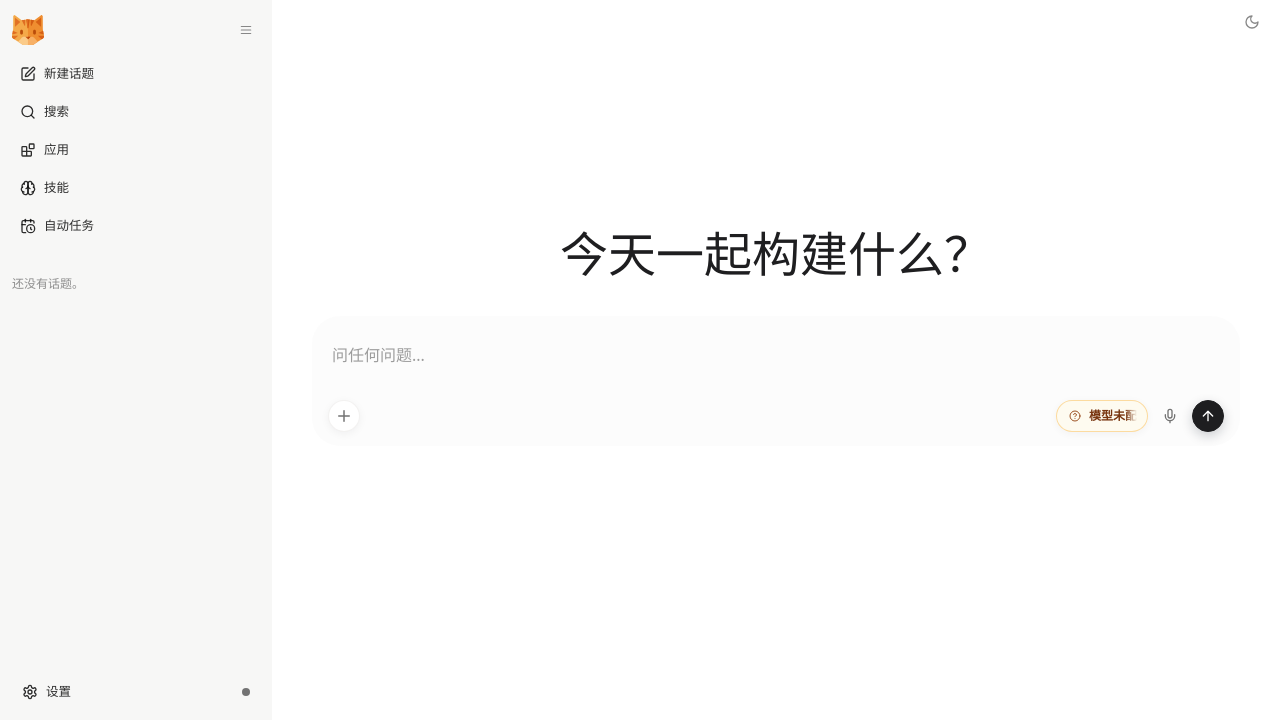
Test: App layout › localizes the Automations surface
Click the button "自动任务" at (136, 226), box top-left (8, 210), bottom-right (264, 242)
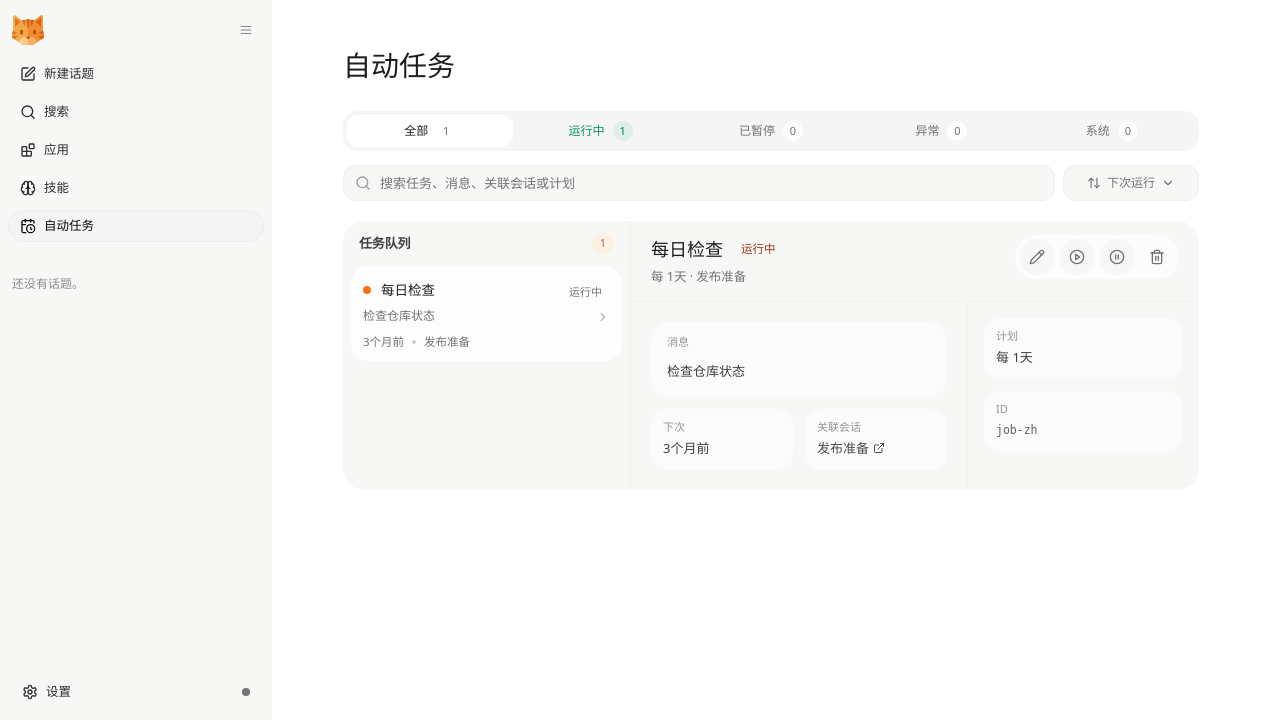
Now the heading "自动任务" is shown, box top-left (343, 46), bottom-right (455, 84)
Now the element "自动任务" is shown
Now the heading "任务队列" is shown, box top-left (359, 234), bottom-right (410, 253)
